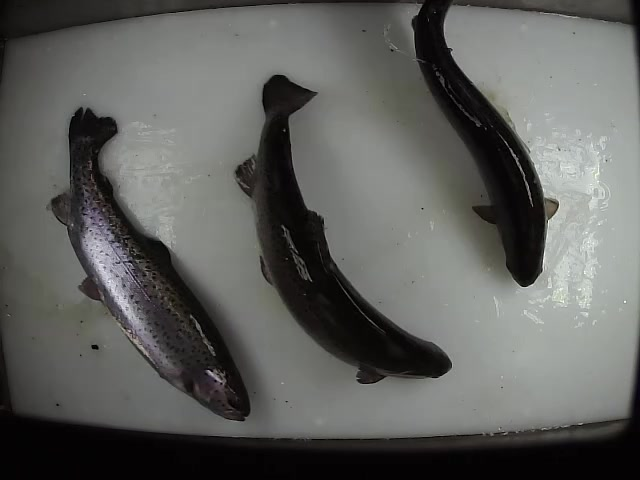fish: (232, 72, 455, 388), (47, 105, 252, 423), (411, 1, 561, 290)
